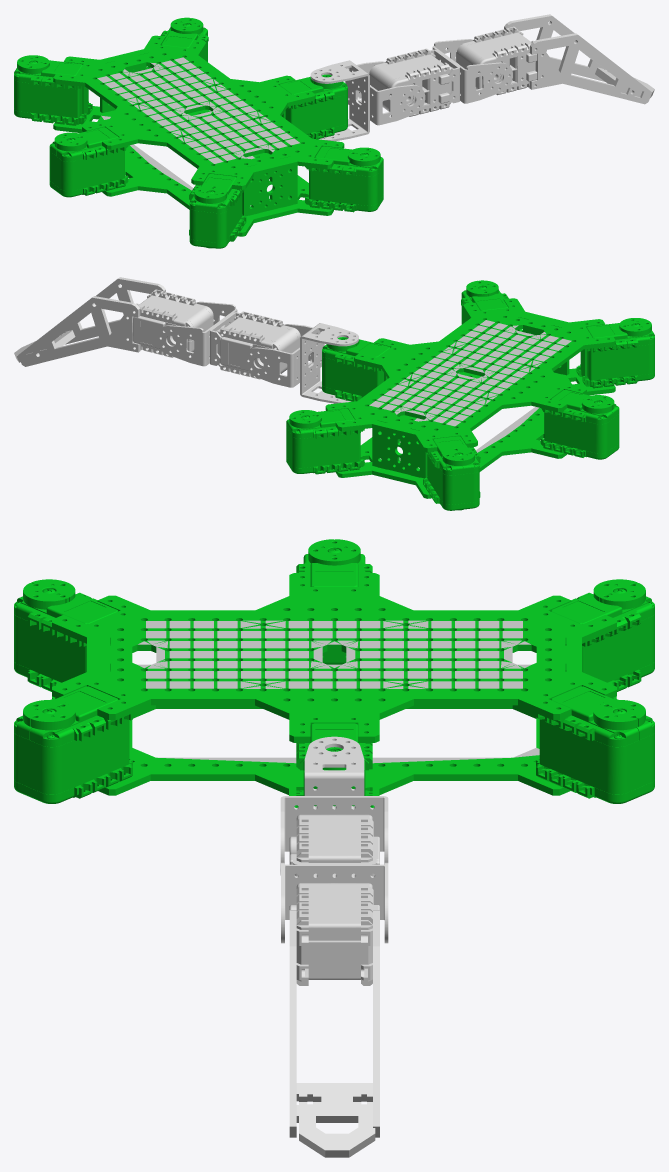
File: RawHexipod.fbx
3 renders of one model, top to bottom at view 1: azimuth 30°, elevation 25°; view 2: azimuth 150°, elevation 25°; view 3: azimuth 270°, elevation 25°, orthographic. The views are drawn at different scales.
Visible parts, largest first — view 1: PX Hexapod MK3.001, PX Hexapod MK3.072, PX Hexapod MK3.071, PX Hexapod MK3.048, PX Hexapod MK3.059, PX Hexapod MK3.070; view 2: PX Hexapod MK3.001, PX Hexapod MK3.072, PX Hexapod MK3.071, PX Hexapod MK3.048, PX Hexapod MK3.059, PX Hexapod MK3.070; view 3: PX Hexapod MK3.001, PX Hexapod MK3.072, PX Hexapod MK3.059, PX Hexapod MK3.071, PX Hexapod MK3.048, PX Hexapod MK3.070.
Part boxes in pixels (x1,y1,x2,y2): PX Hexapod MK3.001: (14,17,383,248); PX Hexapod MK3.072: (504,14,654,104); PX Hexapod MK3.071: (310,60,425,141); PX Hexapod MK3.048: (368,48,454,116); PX Hexapod MK3.059: (456,26,537,95); PX Hexapod MK3.070: (429,39,512,103); PX Hexapod MK3.001: (286,280,654,510); PX Hexapod MK3.072: (14,277,165,366); PX Hexapod MK3.071: (244,323,358,403); PX Hexapod MK3.048: (215,311,300,379); PX Hexapod MK3.059: (132,289,213,357); PX Hexapod MK3.070: (157,301,240,366); PX Hexapod MK3.001: (14,539,654,807); PX Hexapod MK3.072: (289,910,379,1157); PX Hexapod MK3.059: (289,883,379,985); PX Hexapod MK3.071: (280,736,388,875); PX Hexapod MK3.048: (289,814,379,874); PX Hexapod MK3.070: (281,858,388,943).
Size of the model in its own units: 482 by 75.34 by 279.
